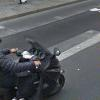Motorcycle: (4, 32, 75, 100)
